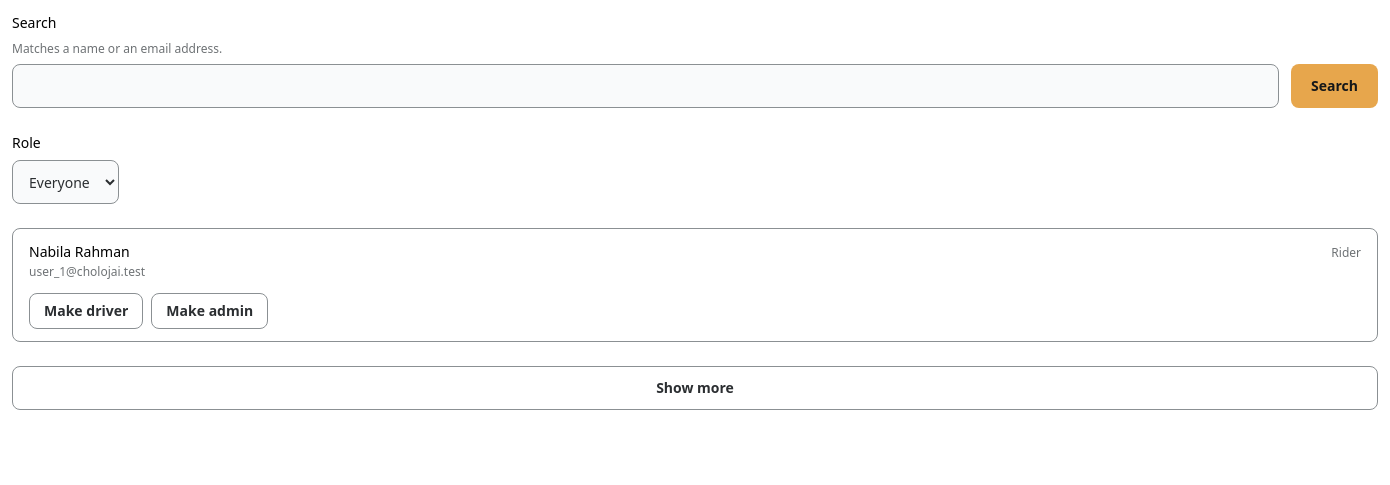
UserDirectory › asks for the next page with the cursor it was given
The width and height of the screenshot is (1390, 485).
Click the button "Show more".
click(695, 388)  # box [12,366,1378,410]
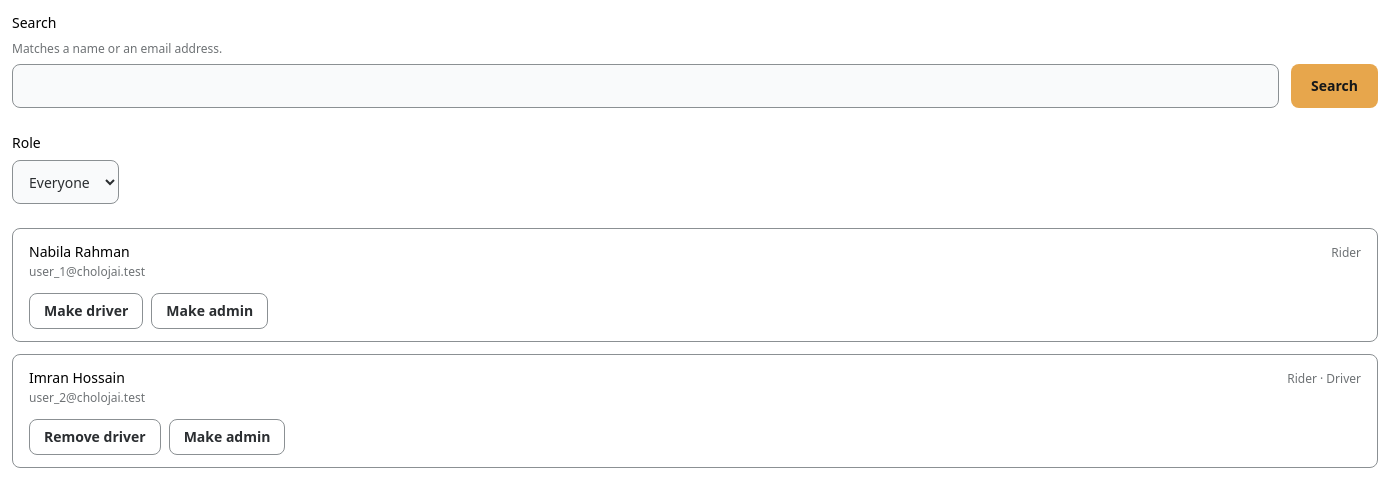
Expected: the text "Imran Hossain" is shown, [29,368,125,387]
